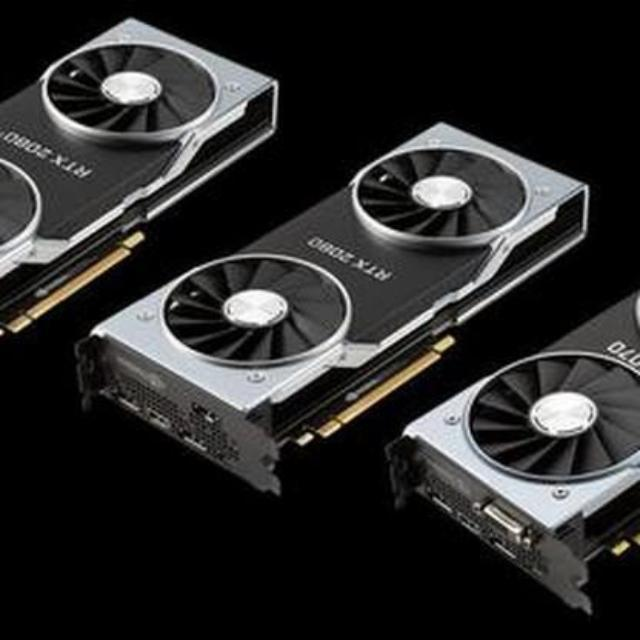GPU: (93, 124, 621, 462), (0, 14, 283, 326), (404, 269, 626, 603)
